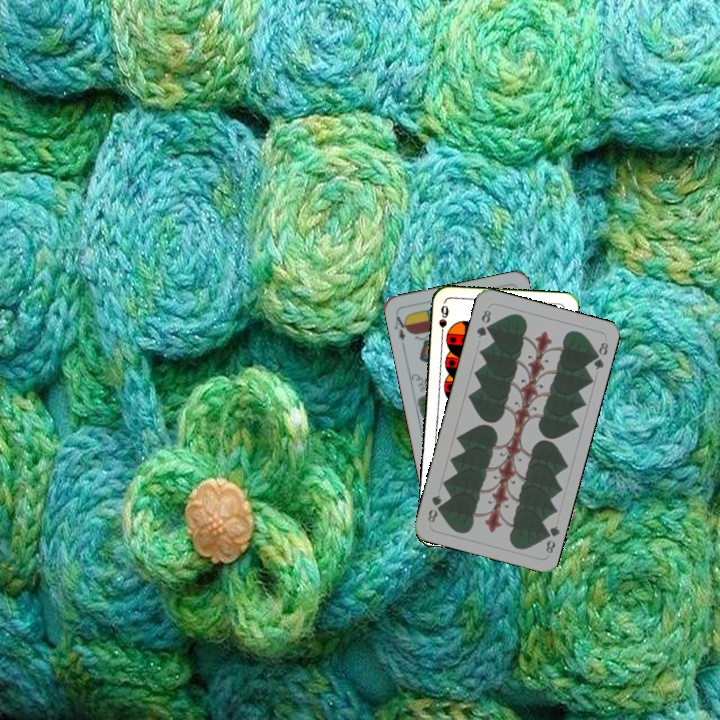EA: (390, 310, 411, 350)
G8: (539, 521, 562, 556), (473, 305, 494, 340)
S9: (435, 301, 451, 341)
